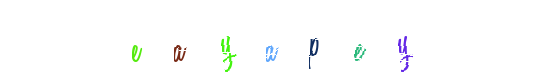A: (156, 0, 236, 80), (232, 0, 312, 80)
E: (138, 0, 218, 80), (272, 0, 352, 80)
P: (266, 0, 346, 80)
Y: (232, 0, 312, 80), (364, 0, 444, 80)
